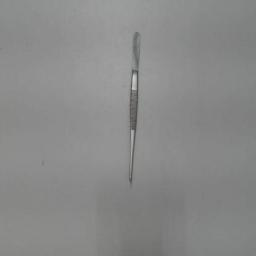Gillies Toothed Dissector: (126, 29, 142, 187)
